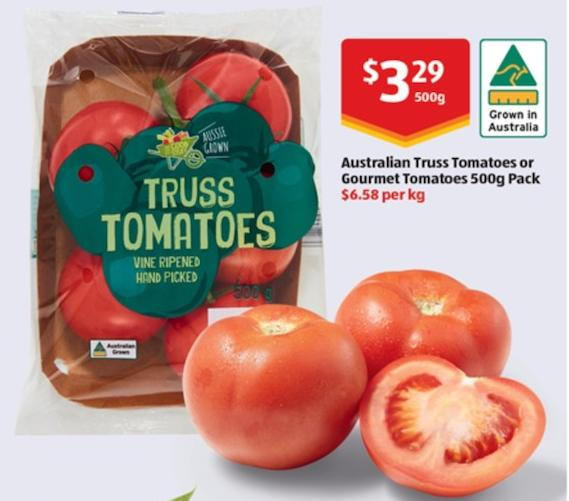description_block: (336, 151, 548, 188)
price_main: (337, 33, 474, 146)
product_image_block: (19, 11, 335, 457)
unit_price_block: (338, 187, 430, 205)
